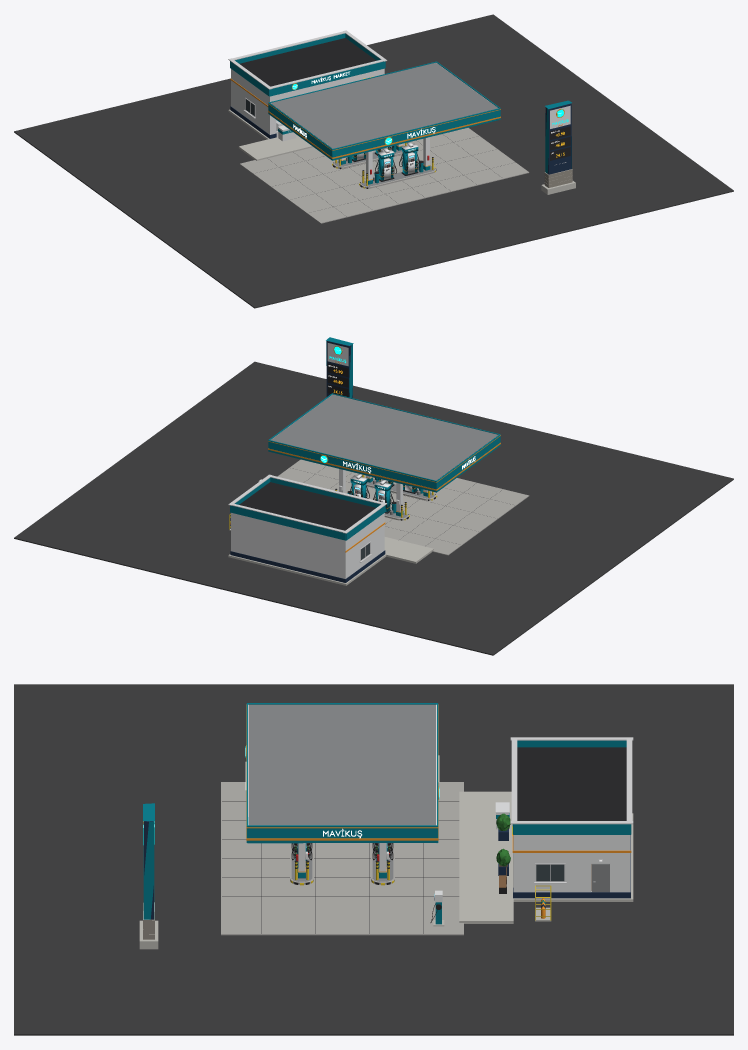
Rendered from istasyon.glb.
3 views of the same model, one above another, from view 1: azimuth 30°, elevation 25°; view 2: azimuth 150°, elevation 25°; view 3: azimuth 270°, elevation 25° (orthographic). The views are drawn at different scales.
Parts seen in each view (by area): view 1: Ground_Asphalt, Forecourt, Canopy_roof, Shop_roof, Canopy_fascia, Price_Totem, Shop_walls, Shop_parapet, Shop_coping, Sidewalk, Canopy_stripes, Pump_2 (+1 smaller); view 2: Ground_Asphalt, Canopy_roof, Forecourt, Shop_walls, Shop_roof, Canopy_fascia, Shop_parapet, Price_Totem, Shop_coping, Sidewalk, Canopy_stripes, Shop_plinth (+1 smaller); view 3: Ground_Asphalt, Forecourt, Canopy_roof, Shop_roof, Sidewalk, Shop_walls, Canopy_fascia, Shop_parapet, Shop_coping, Price_Totem, Canopy_stripes, Forecourt_joints (+2 smaller).
Boxes of the visible parts, box(x1,y1,x2,y2) form: Ground_Asphalt: box(14, 14, 733, 308); Forecourt: box(240, 127, 529, 223); Canopy_roof: box(270, 62, 497, 148); Shop_roof: box(239, 38, 376, 86); Canopy_fascia: box(268, 61, 500, 160); Price_Totem: box(541, 100, 575, 194); Shop_walls: box(231, 68, 384, 134); Shop_parapet: box(230, 33, 385, 96); Shop_coping: box(228, 30, 387, 89); Sidewalk: box(238, 135, 313, 160); Canopy_stripes: box(268, 103, 500, 158); Pump_2: box(399, 142, 420, 175); Ground_Asphalt: box(14, 361, 733, 655); Canopy_roof: box(270, 394, 498, 480); Forecourt: box(277, 459, 529, 555); Shop_walls: box(231, 513, 384, 578); Shop_roof: box(239, 482, 375, 530); Canopy_fascia: box(268, 393, 500, 492); Shop_parapet: box(230, 477, 385, 540); Price_Totem: box(326, 337, 353, 397); Shop_coping: box(228, 474, 387, 533); Sidewalk: box(384, 537, 433, 563); Canopy_stripes: box(268, 435, 500, 490); Shop_plinth: box(230, 550, 385, 582); Ground_Asphalt: box(14, 684, 733, 1035); Forecourt: box(221, 782, 463, 935); Canopy_roof: box(249, 704, 435, 825); Shop_roof: box(517, 747, 626, 820); Sidewalk: box(459, 791, 513, 923); Shop_walls: box(513, 835, 630, 892); Canopy_fascia: box(246, 703, 438, 843); Shop_parapet: box(512, 740, 631, 834); Shop_coping: box(510, 737, 633, 824); Price_Totem: box(139, 803, 158, 949); Canopy_stripes: box(246, 704, 438, 840); Forecourt_joints: box(222, 801, 458, 933).
Size of the model in its own units: 46 by 7.88 by 40.
